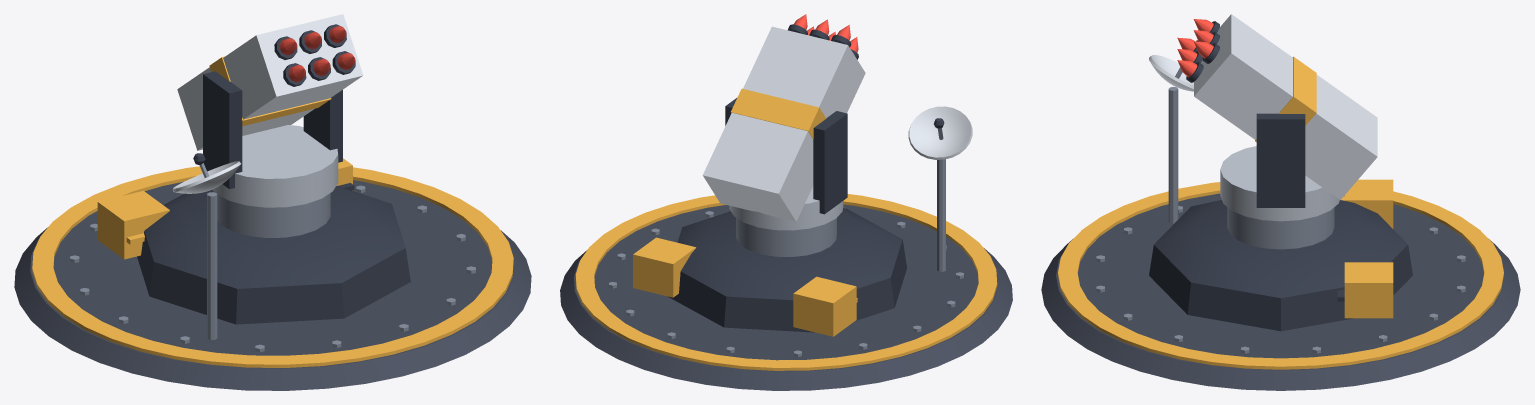
File: flak.obj
3 views of the same model, side by side, from view 1: azimuth 30°, elevation 25°; view 2: azimuth 150°, elevation 25°; view 3: azimuth 270°, elevation 25° (orthographic). The views are drawn at different scales.
Visible parts, largest first — view 1: flak_Koerper, flak_Dreh; view 2: flak_Koerper, flak_Dreh; view 3: flak_Koerper, flak_Dreh.
Part boxes in pixels (x1,y1,x2,y2): flak_Koerper: (14,153,531,390); flak_Dreh: (177,14,363,207); flak_Koerper: (560,106,1012,390); flak_Dreh: (702,14,865,230); flak_Koerper: (1041,55,1520,390); flak_Dreh: (1177,14,1377,221).
Bounding box in the file's own units: 4.9 × 2.93 × 4.9.
